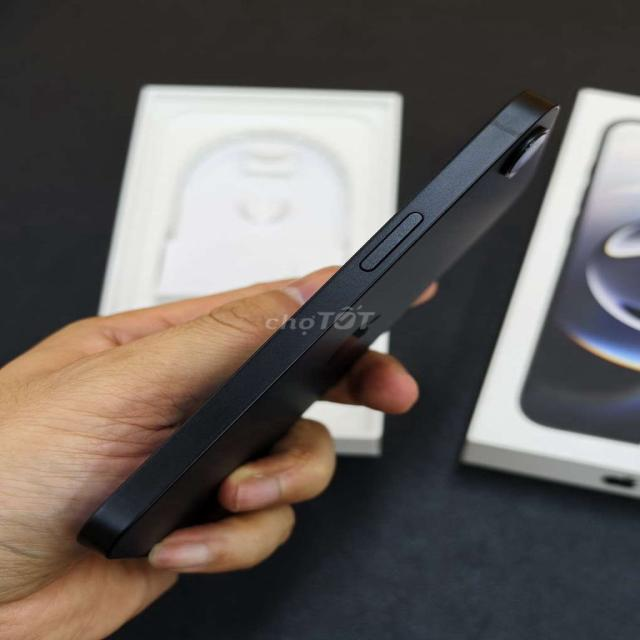gen_16: (78, 92, 558, 558)
